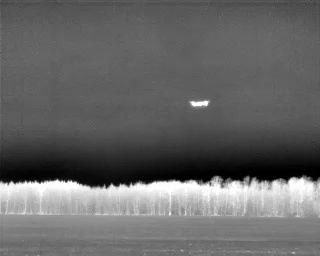DRONE: (186, 94, 214, 112)
